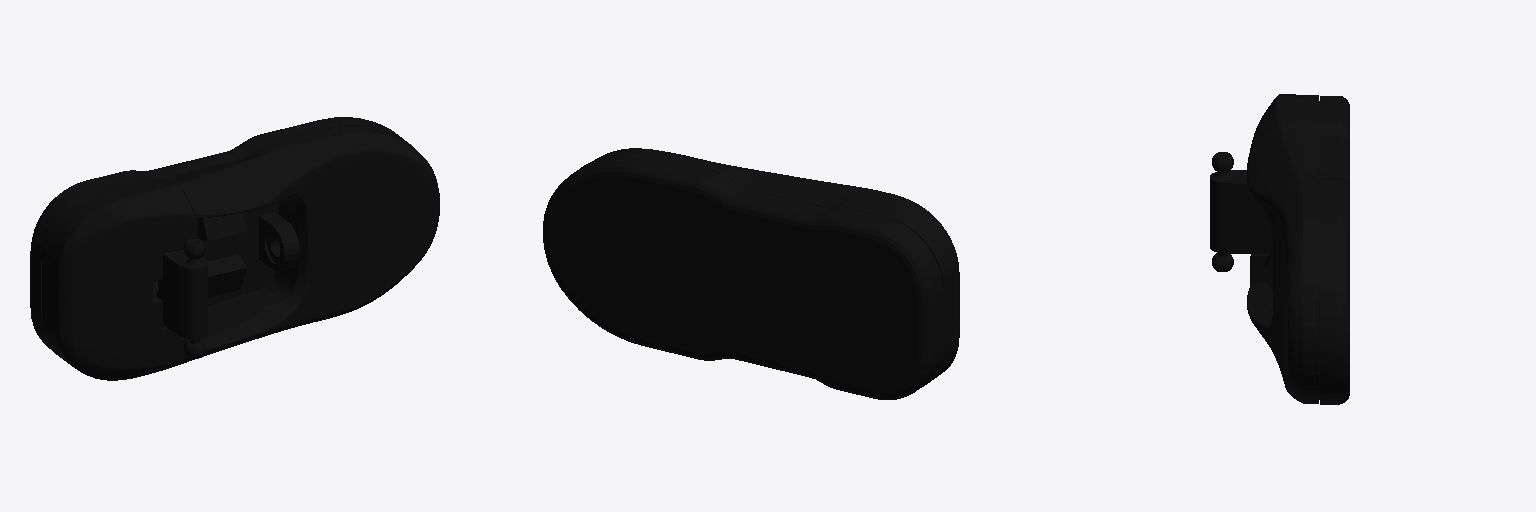
File: Foot_link.obj
3 renders of one model, left to right at view 1: azimuth 30°, elevation 25°; view 2: azimuth 150°, elevation 25°; view 3: azimuth 270°, elevation 25°, orthographic.
Visible parts, largest first — view 1: left_foot_link; view 2: left_foot_link; view 3: left_foot_link.
Boxes of the visible parts, <box> form: left_foot_link: <box>30,117,439,380</box>; left_foot_link: <box>543,148,959,399</box>; left_foot_link: <box>1210,94,1349,404</box>.
Size of the model in its own units: 0.2249 by 0.1002 by 0.0702.